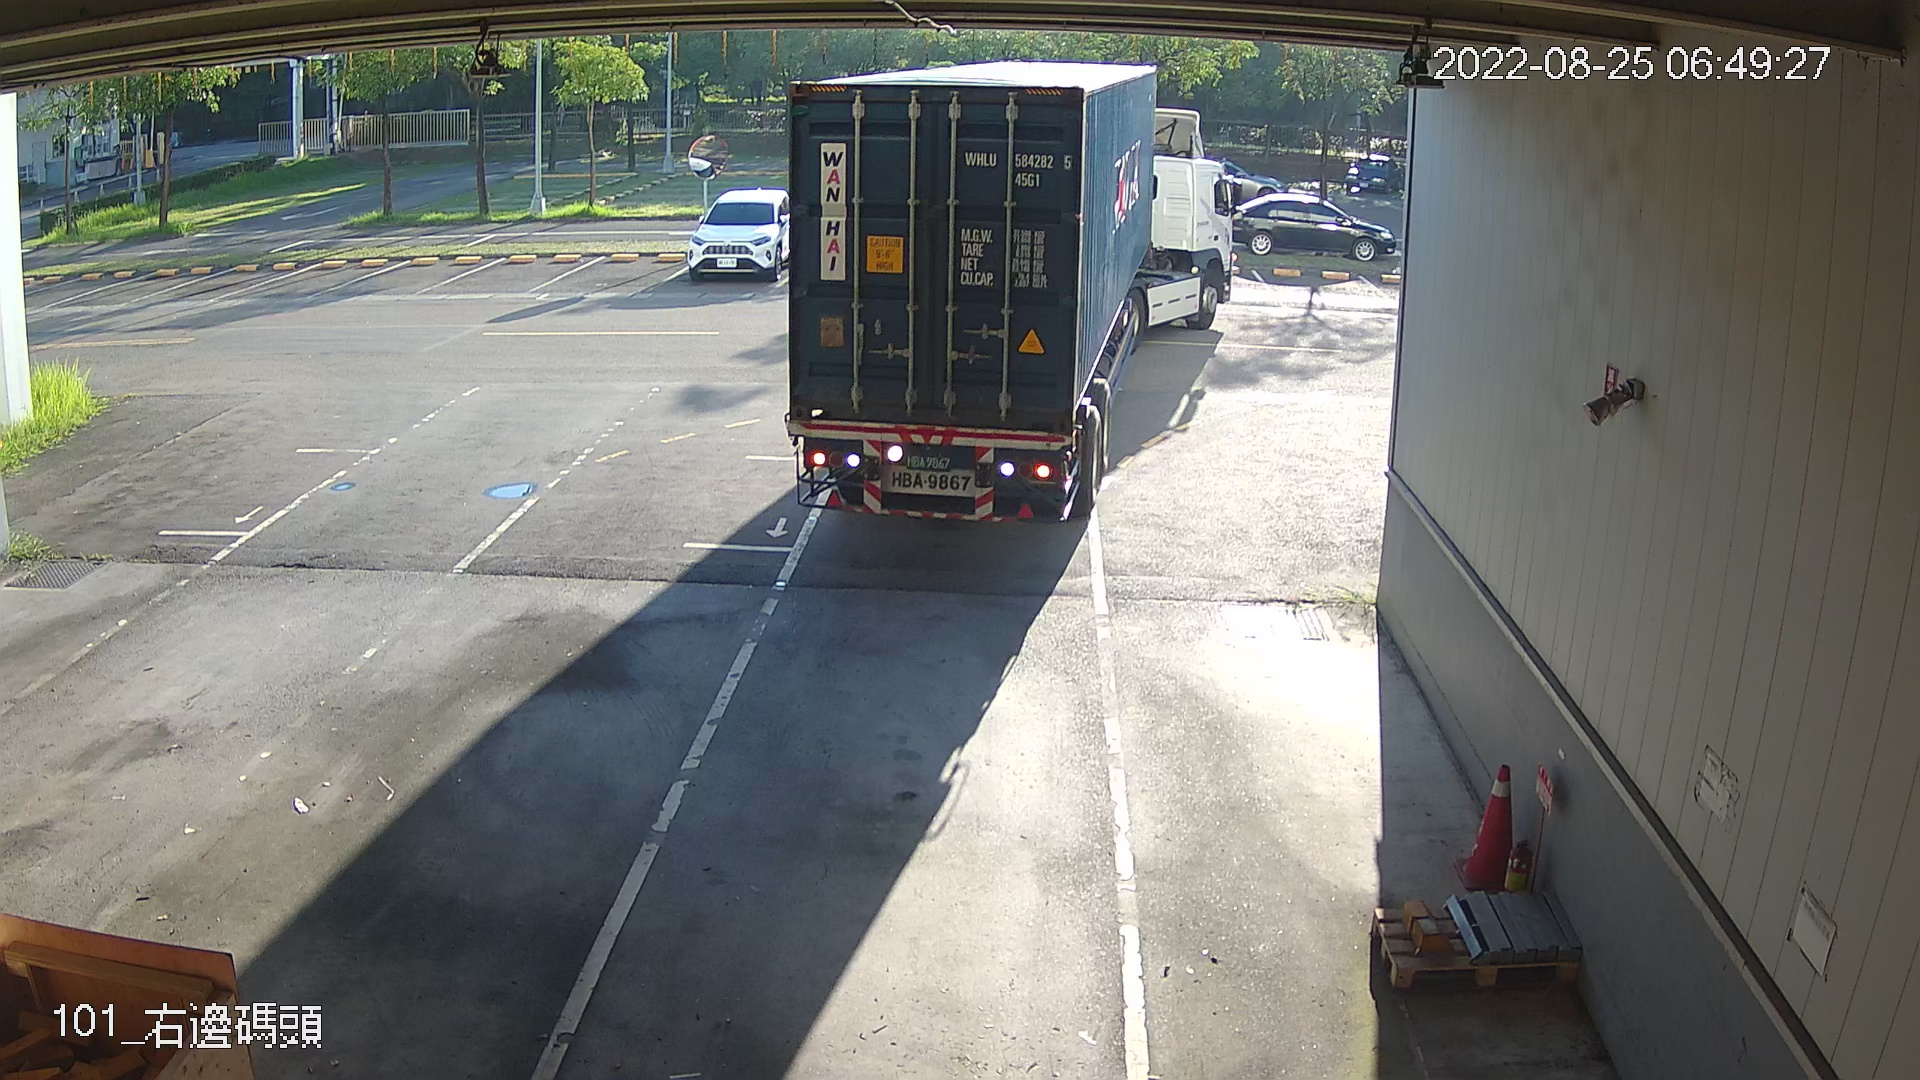container: (957, 146, 1079, 199)
